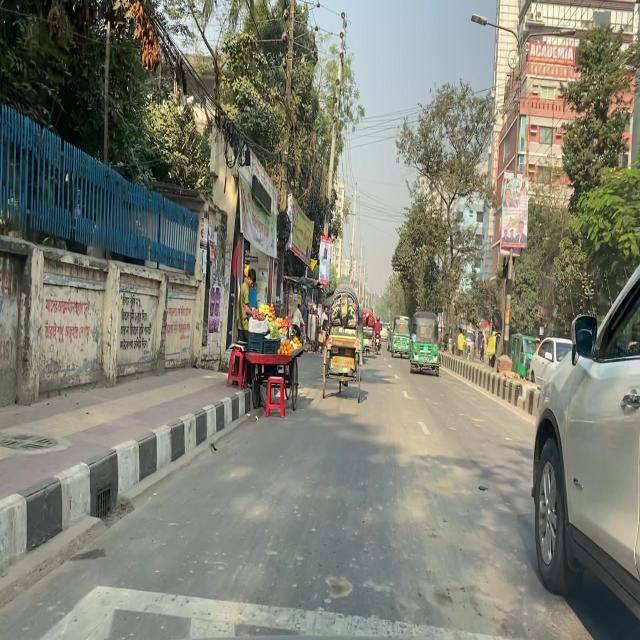car: (530, 225, 640, 635), (528, 336, 587, 396)
motorbike: (372, 315, 383, 356)
